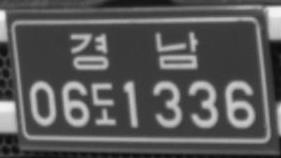0: (28, 79, 57, 127)
1: (120, 79, 145, 129)
3: (187, 79, 220, 130), (152, 79, 183, 129)
6: (223, 78, 256, 129), (60, 79, 91, 129)
경남_D: (68, 30, 199, 72)
도: (91, 80, 117, 127)
